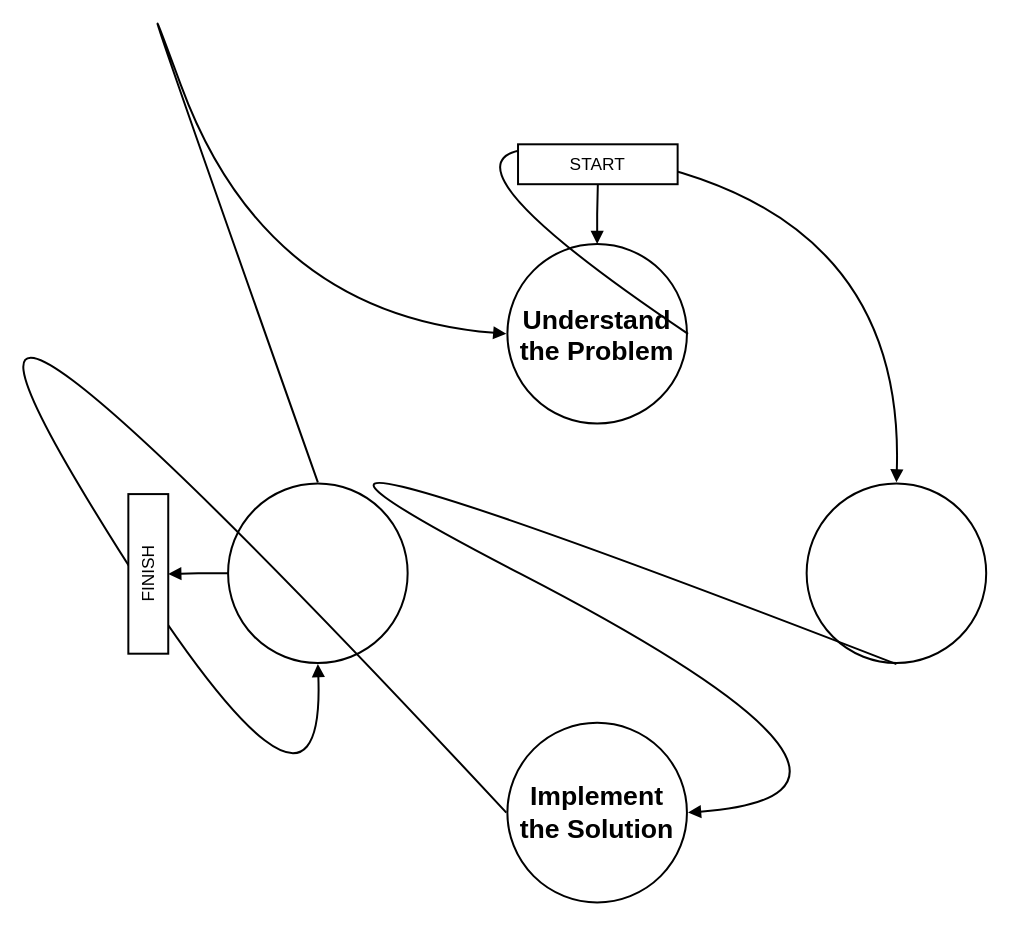
The diagram is 1011 pixels wide and 927 high, and some of its shapes have lost their labels. Here are the shapes that lost their labels. From the top down, the centre of each, then its label:
At [317,572]: "Evaluate the Solution".
At [896,572]: "Plan and Design the Solution".
